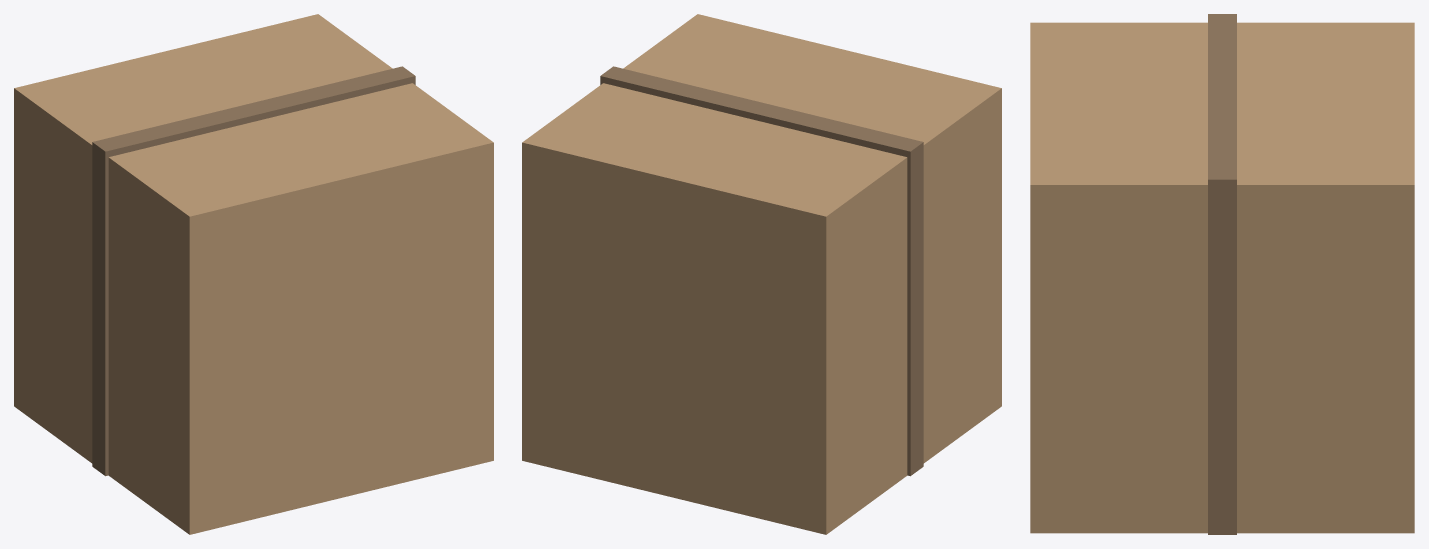
File: Prop_Dress_AMF_Crate_V9.glb
The picture shows the model from 3 angles, left to right: view 1: azimuth 30°, elevation 25°; view 2: azimuth 150°, elevation 25°; view 3: azimuth 270°, elevation 25°; orthographic projection. The views are drawn at different scales.
Parts seen in each view (by area): view 1: Prop_Dress_AMF_Crate_V9; view 2: Prop_Dress_AMF_Crate_V9; view 3: Prop_Dress_AMF_Crate_V9.
Part boxes in pixels (x1,y1,x2,y2): Prop_Dress_AMF_Crate_V9: [14, 14, 493, 534]; Prop_Dress_AMF_Crate_V9: [522, 14, 1001, 534]; Prop_Dress_AMF_Crate_V9: [1030, 14, 1414, 534].
Bounding box in the file's own units: 0.816 × 0.816 × 0.8.
